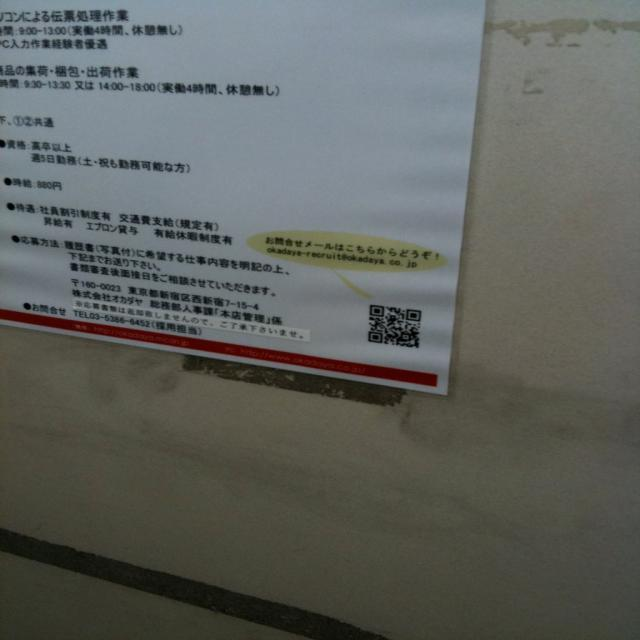qrcode: (369, 305, 422, 349)
